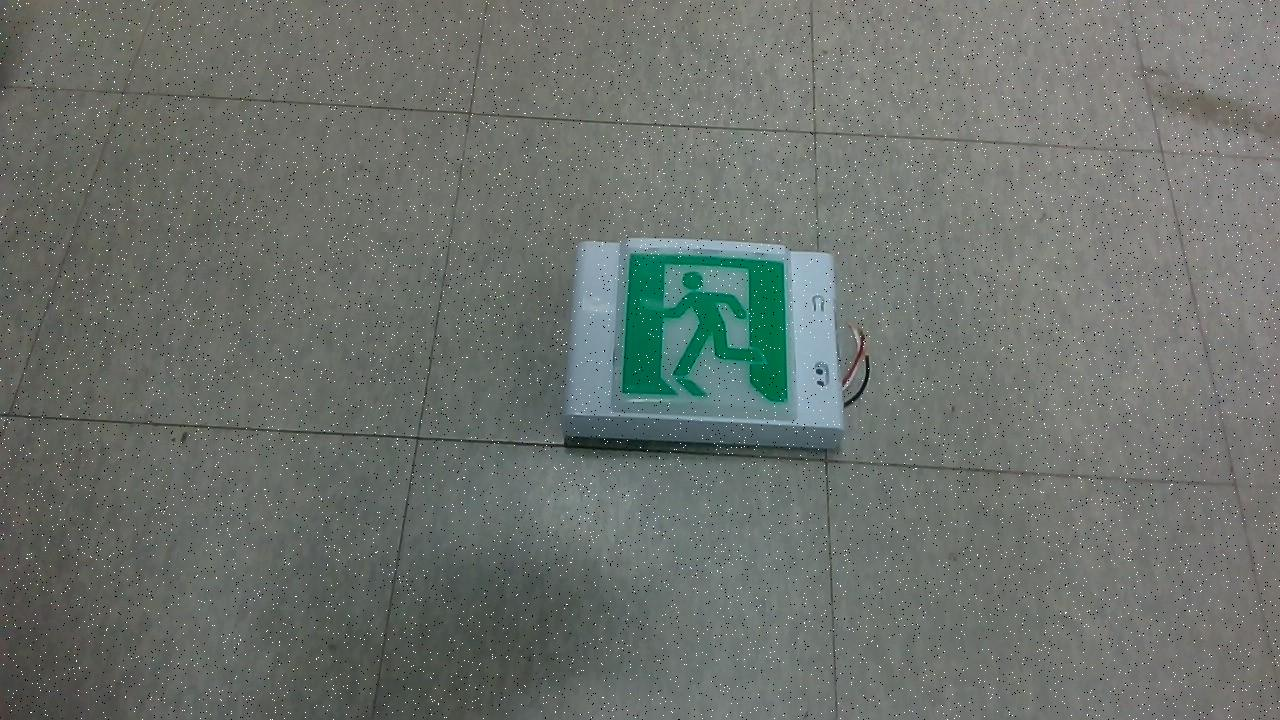emergency_exit: (561, 236, 845, 453)
